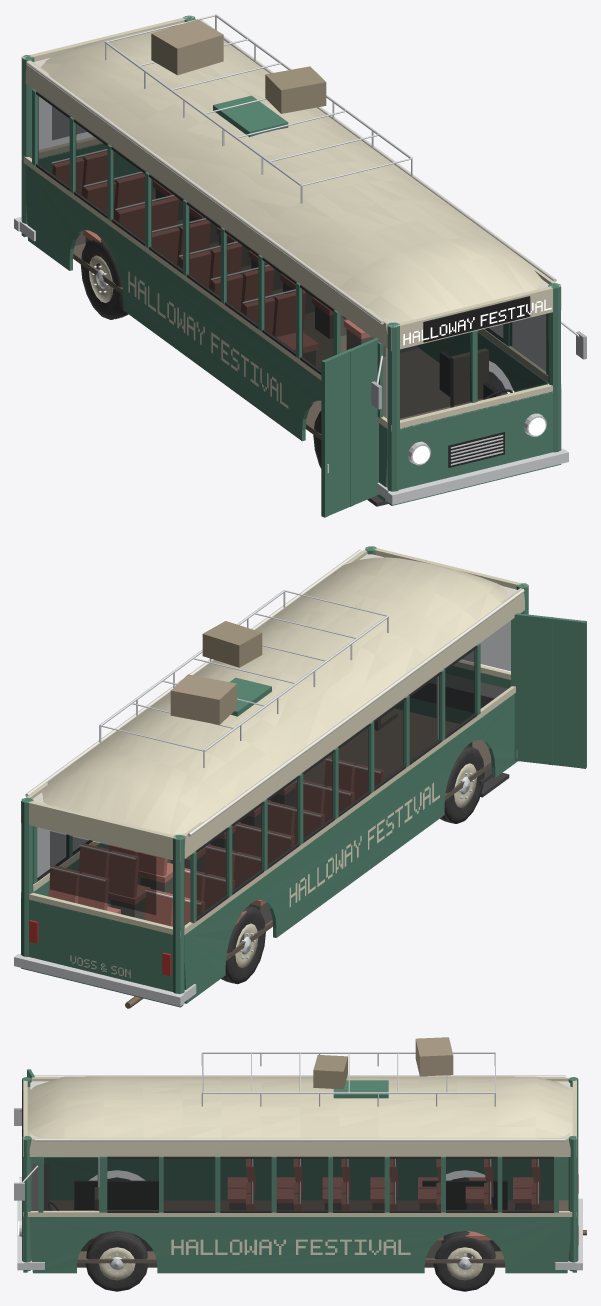
The model's file is festival_bus_restored_open.glb.
3 views of the same model, one above another, from view 1: azimuth 30°, elevation 25°; view 2: azimuth 150°, elevation 25°; view 3: azimuth 270°, elevation 25° (orthographic). The views are drawn at different scales.
Parts seen in each view (by area): view 1: body, door, destination_board, wheel_rr; view 2: body, door, wheel_fr, wheel_rr; view 3: body, wheel_fl, wheel_rl.
Boxes of the visible parts, x1=… form: body: x1=14, y1=14, x2=586, y2=506; door: x1=321, y1=337, x2=378, y2=517; destination_board: x1=403, y1=296, x2=551, y2=345; wheel_rr: x1=80, y1=239, x2=128, y2=319; body: x1=14, y1=546, x2=528, y2=1008; door: x1=511, y1=613, x2=586, y2=768; wheel_fr: x1=440, y1=745, x2=484, y2=823; wheel_rr: x1=221, y1=906, x2=265, y2=984; body: x1=14, y1=1037, x2=586, y2=1273; wheel_fl: x1=85, y1=1231, x2=148, y2=1291; wheel_rl: x1=433, y1=1231, x2=496, y2=1291.
Size of what is drawn, in the model's own units: 3.6 by 3.82 by 9.39.
